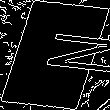N_W: (6, 30, 104, 80)
